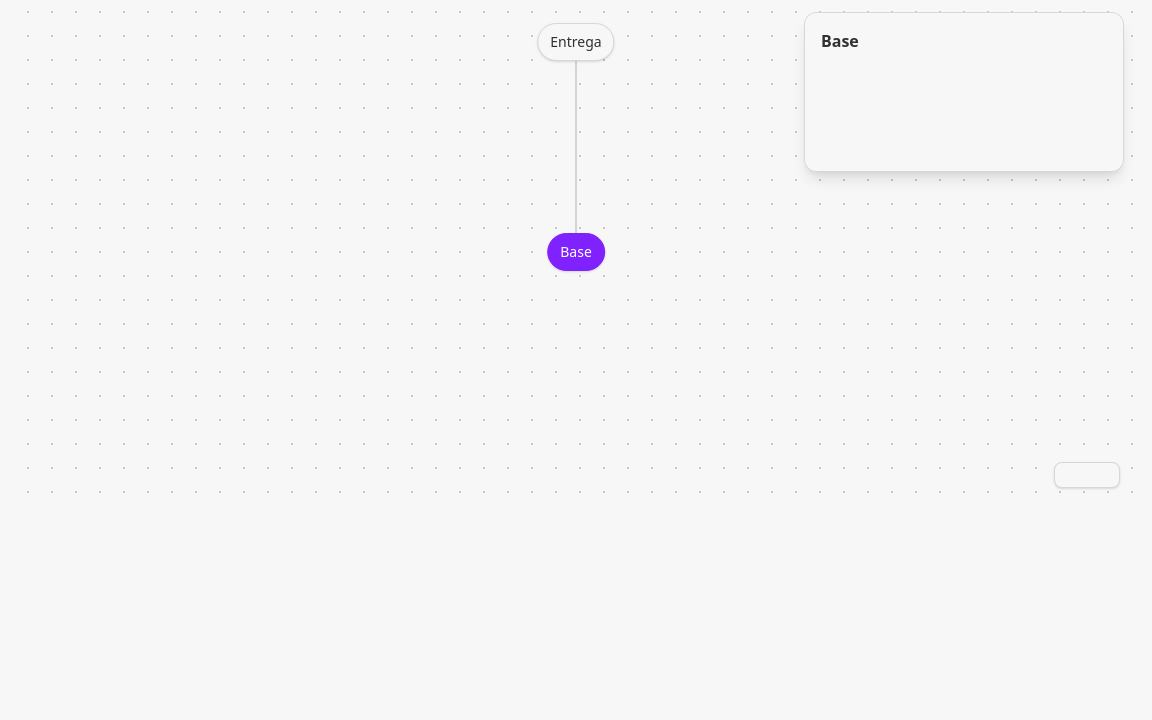
Test: Graph interactions › loads nested properties using the immediate parent schema
What coordinates should you click on to do the following:
click the button "Entrega"
I would click on:
 (576, 42)
Its box is left=538, top=24, right=614, bottom=60.
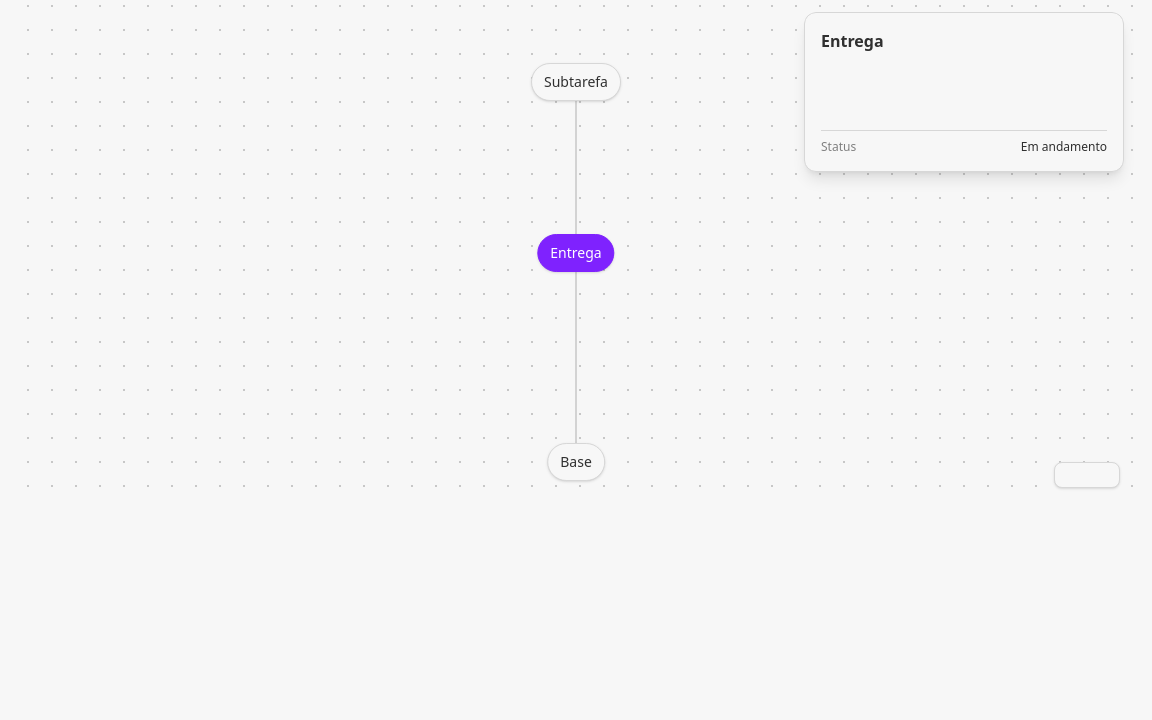
What coordinates should you click on to do the following:
click the button "Subtarefa"
I would click on:
 (576, 82)
Its box is left=532, top=64, right=620, bottom=100.
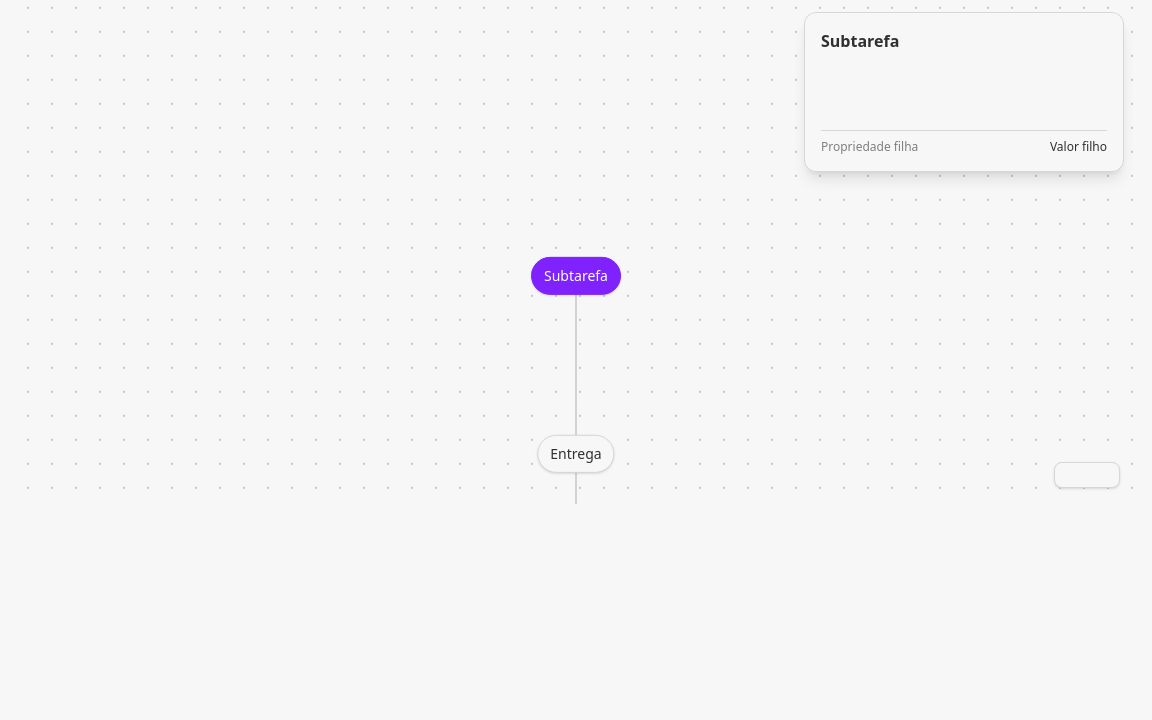
Expected: the text "Valor filho" is shown, left=1050, top=139, right=1107, bottom=155
Expected: the text "Status" is gone
